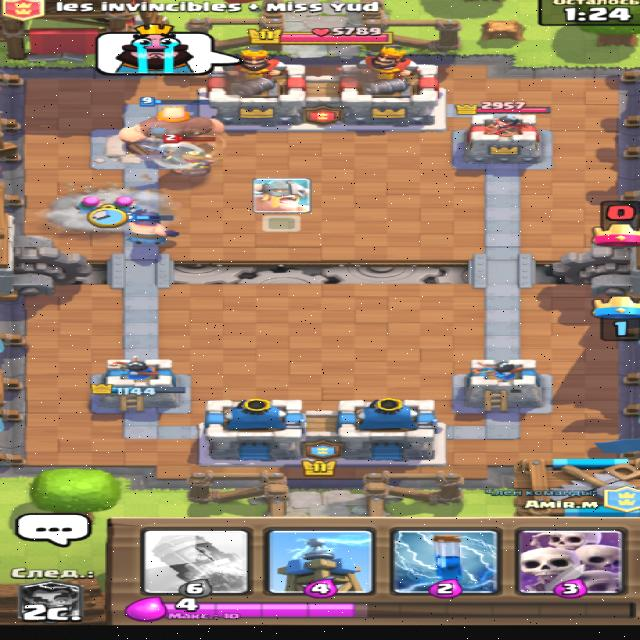Player-Archer: (71, 196, 105, 213), (107, 196, 141, 210)
Player-Executioner: (119, 212, 179, 246)
Player-Giant: (115, 96, 224, 147)
